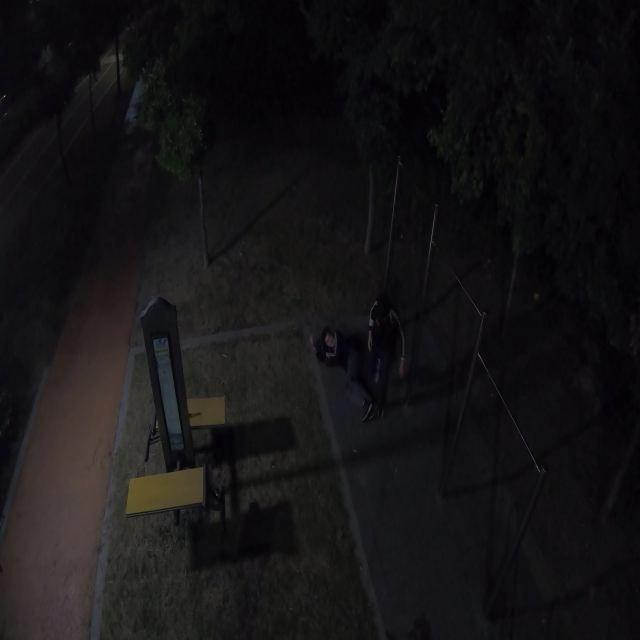fight: (314, 291, 410, 423)
